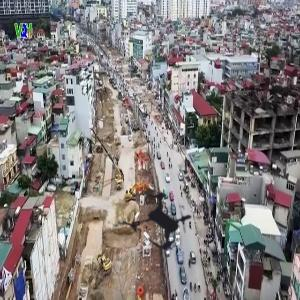drone: (94, 150, 232, 288)
